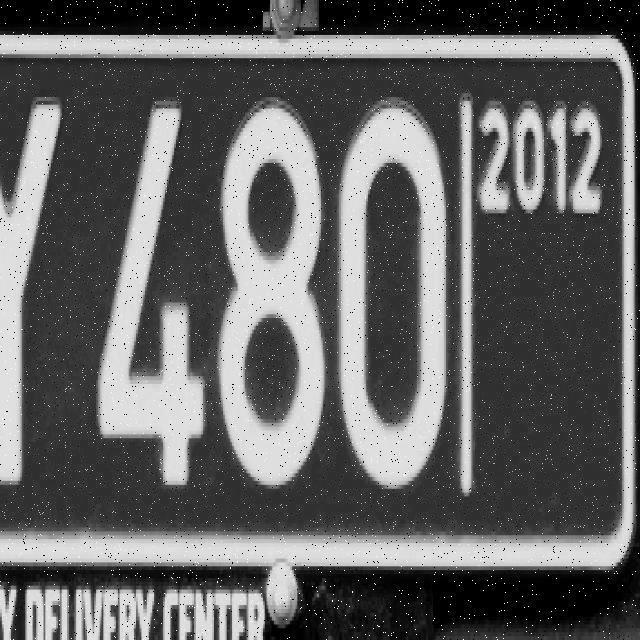LicensePlate: (0, 34, 640, 575)
